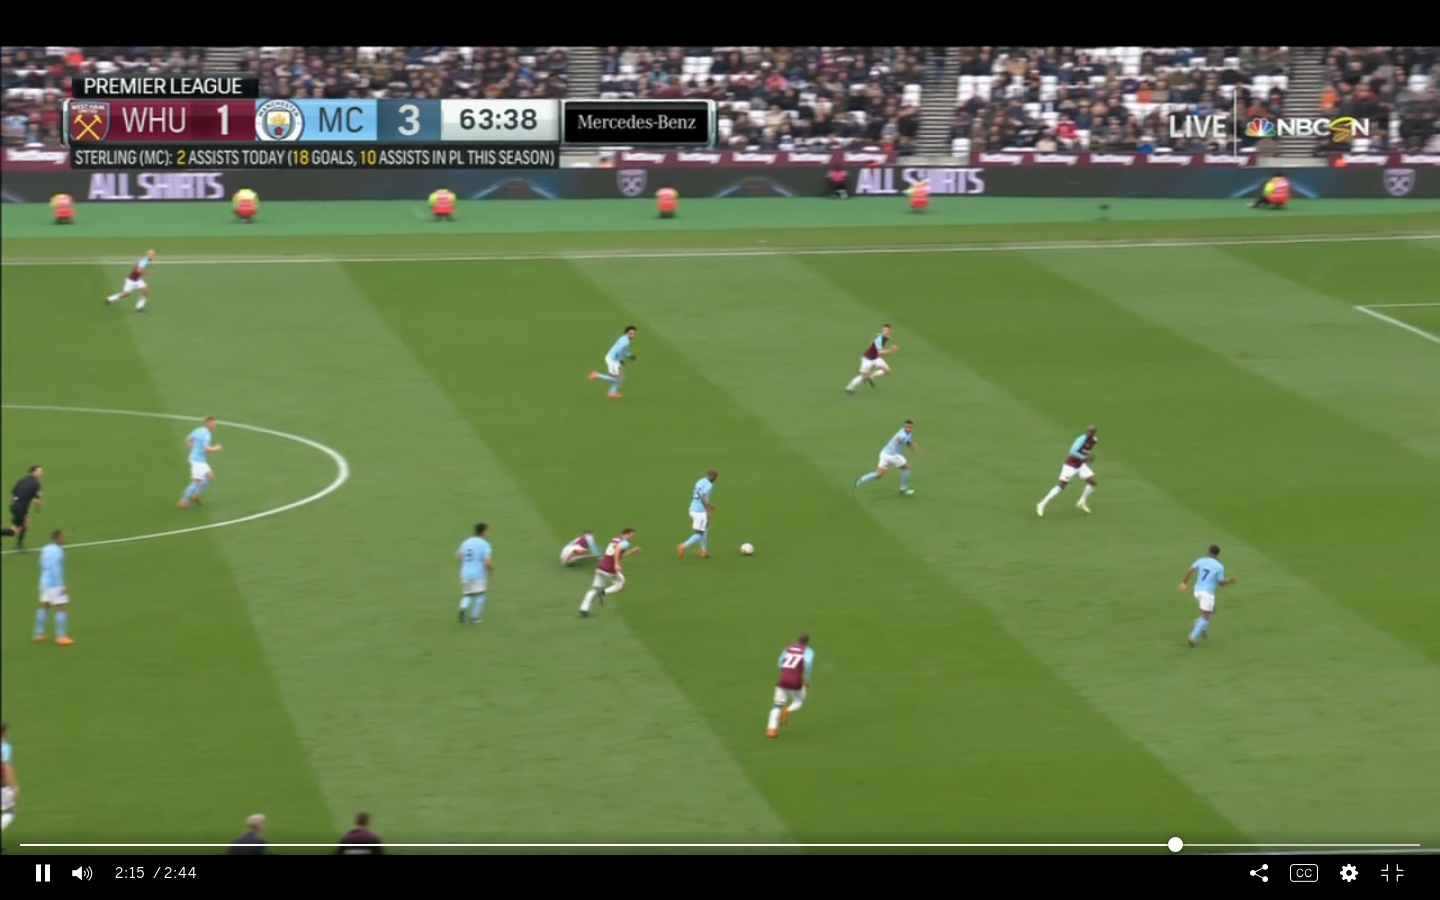referee: (1, 457, 50, 557)
soccer player: (28, 523, 96, 654), (1028, 422, 1112, 519), (761, 628, 830, 742), (1176, 537, 1241, 654), (170, 409, 232, 522), (448, 519, 507, 629), (579, 526, 648, 619), (856, 417, 927, 503), (585, 319, 647, 402), (841, 322, 904, 403), (673, 466, 719, 565), (108, 245, 162, 309), (553, 528, 601, 568)
soccerball: (738, 539, 759, 557)
